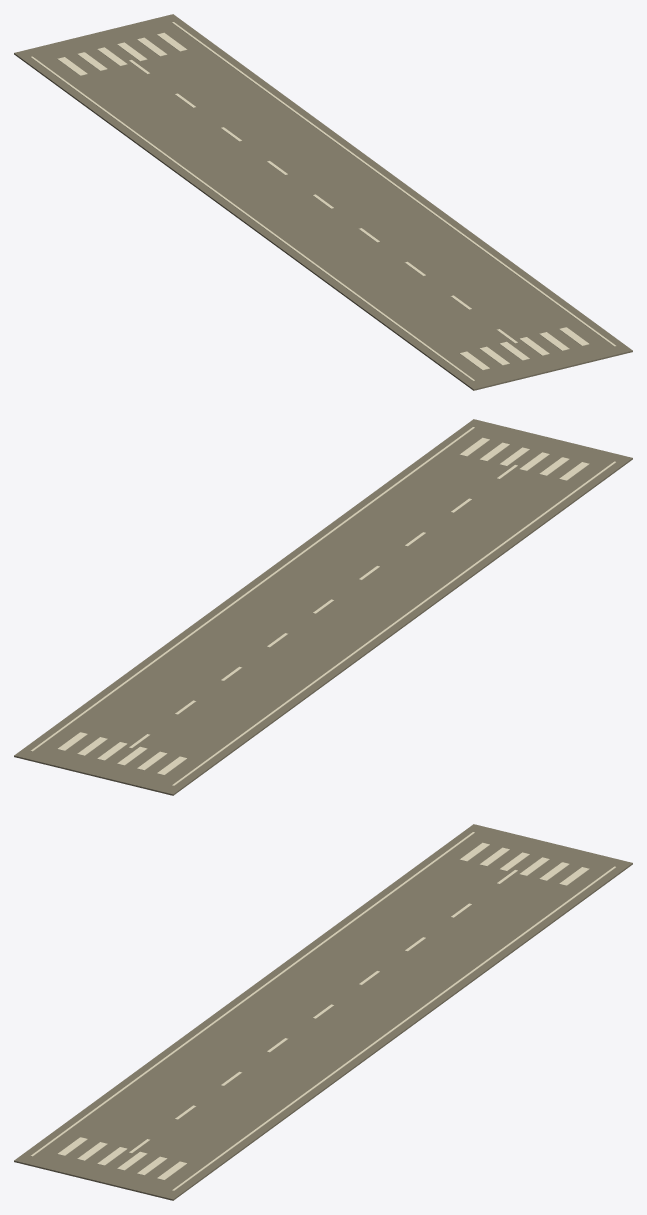
File: runway.glb
3 renders of one model, top to bottom at view 1: azimuth 30°, elevation 25°; view 2: azimuth 150°, elevation 25°; view 3: azimuth 330°, elevation 25°, orthographic.
Parts seen in each view (by area): view 1: Runway, EdgeLine1, EdgeLine-1; view 2: Runway, EdgeLine1, EdgeLine-1; view 3: Runway, EdgeLine1, EdgeLine-1.
Boxes of the visible parts, box(x1,y1,x2,y2) form: Runway: box(14, 14, 632, 390); EdgeLine1: box(172, 22, 615, 346); EdgeLine-1: box(31, 56, 474, 380); Runway: box(14, 419, 632, 795); EdgeLine1: box(31, 427, 474, 751); EdgeLine-1: box(172, 461, 615, 785); Runway: box(14, 824, 632, 1200); EdgeLine1: box(172, 866, 615, 1190); EdgeLine-1: box(31, 832, 474, 1156).
Bounding box in the file's own units: 16 × 0.1775 × 80.
